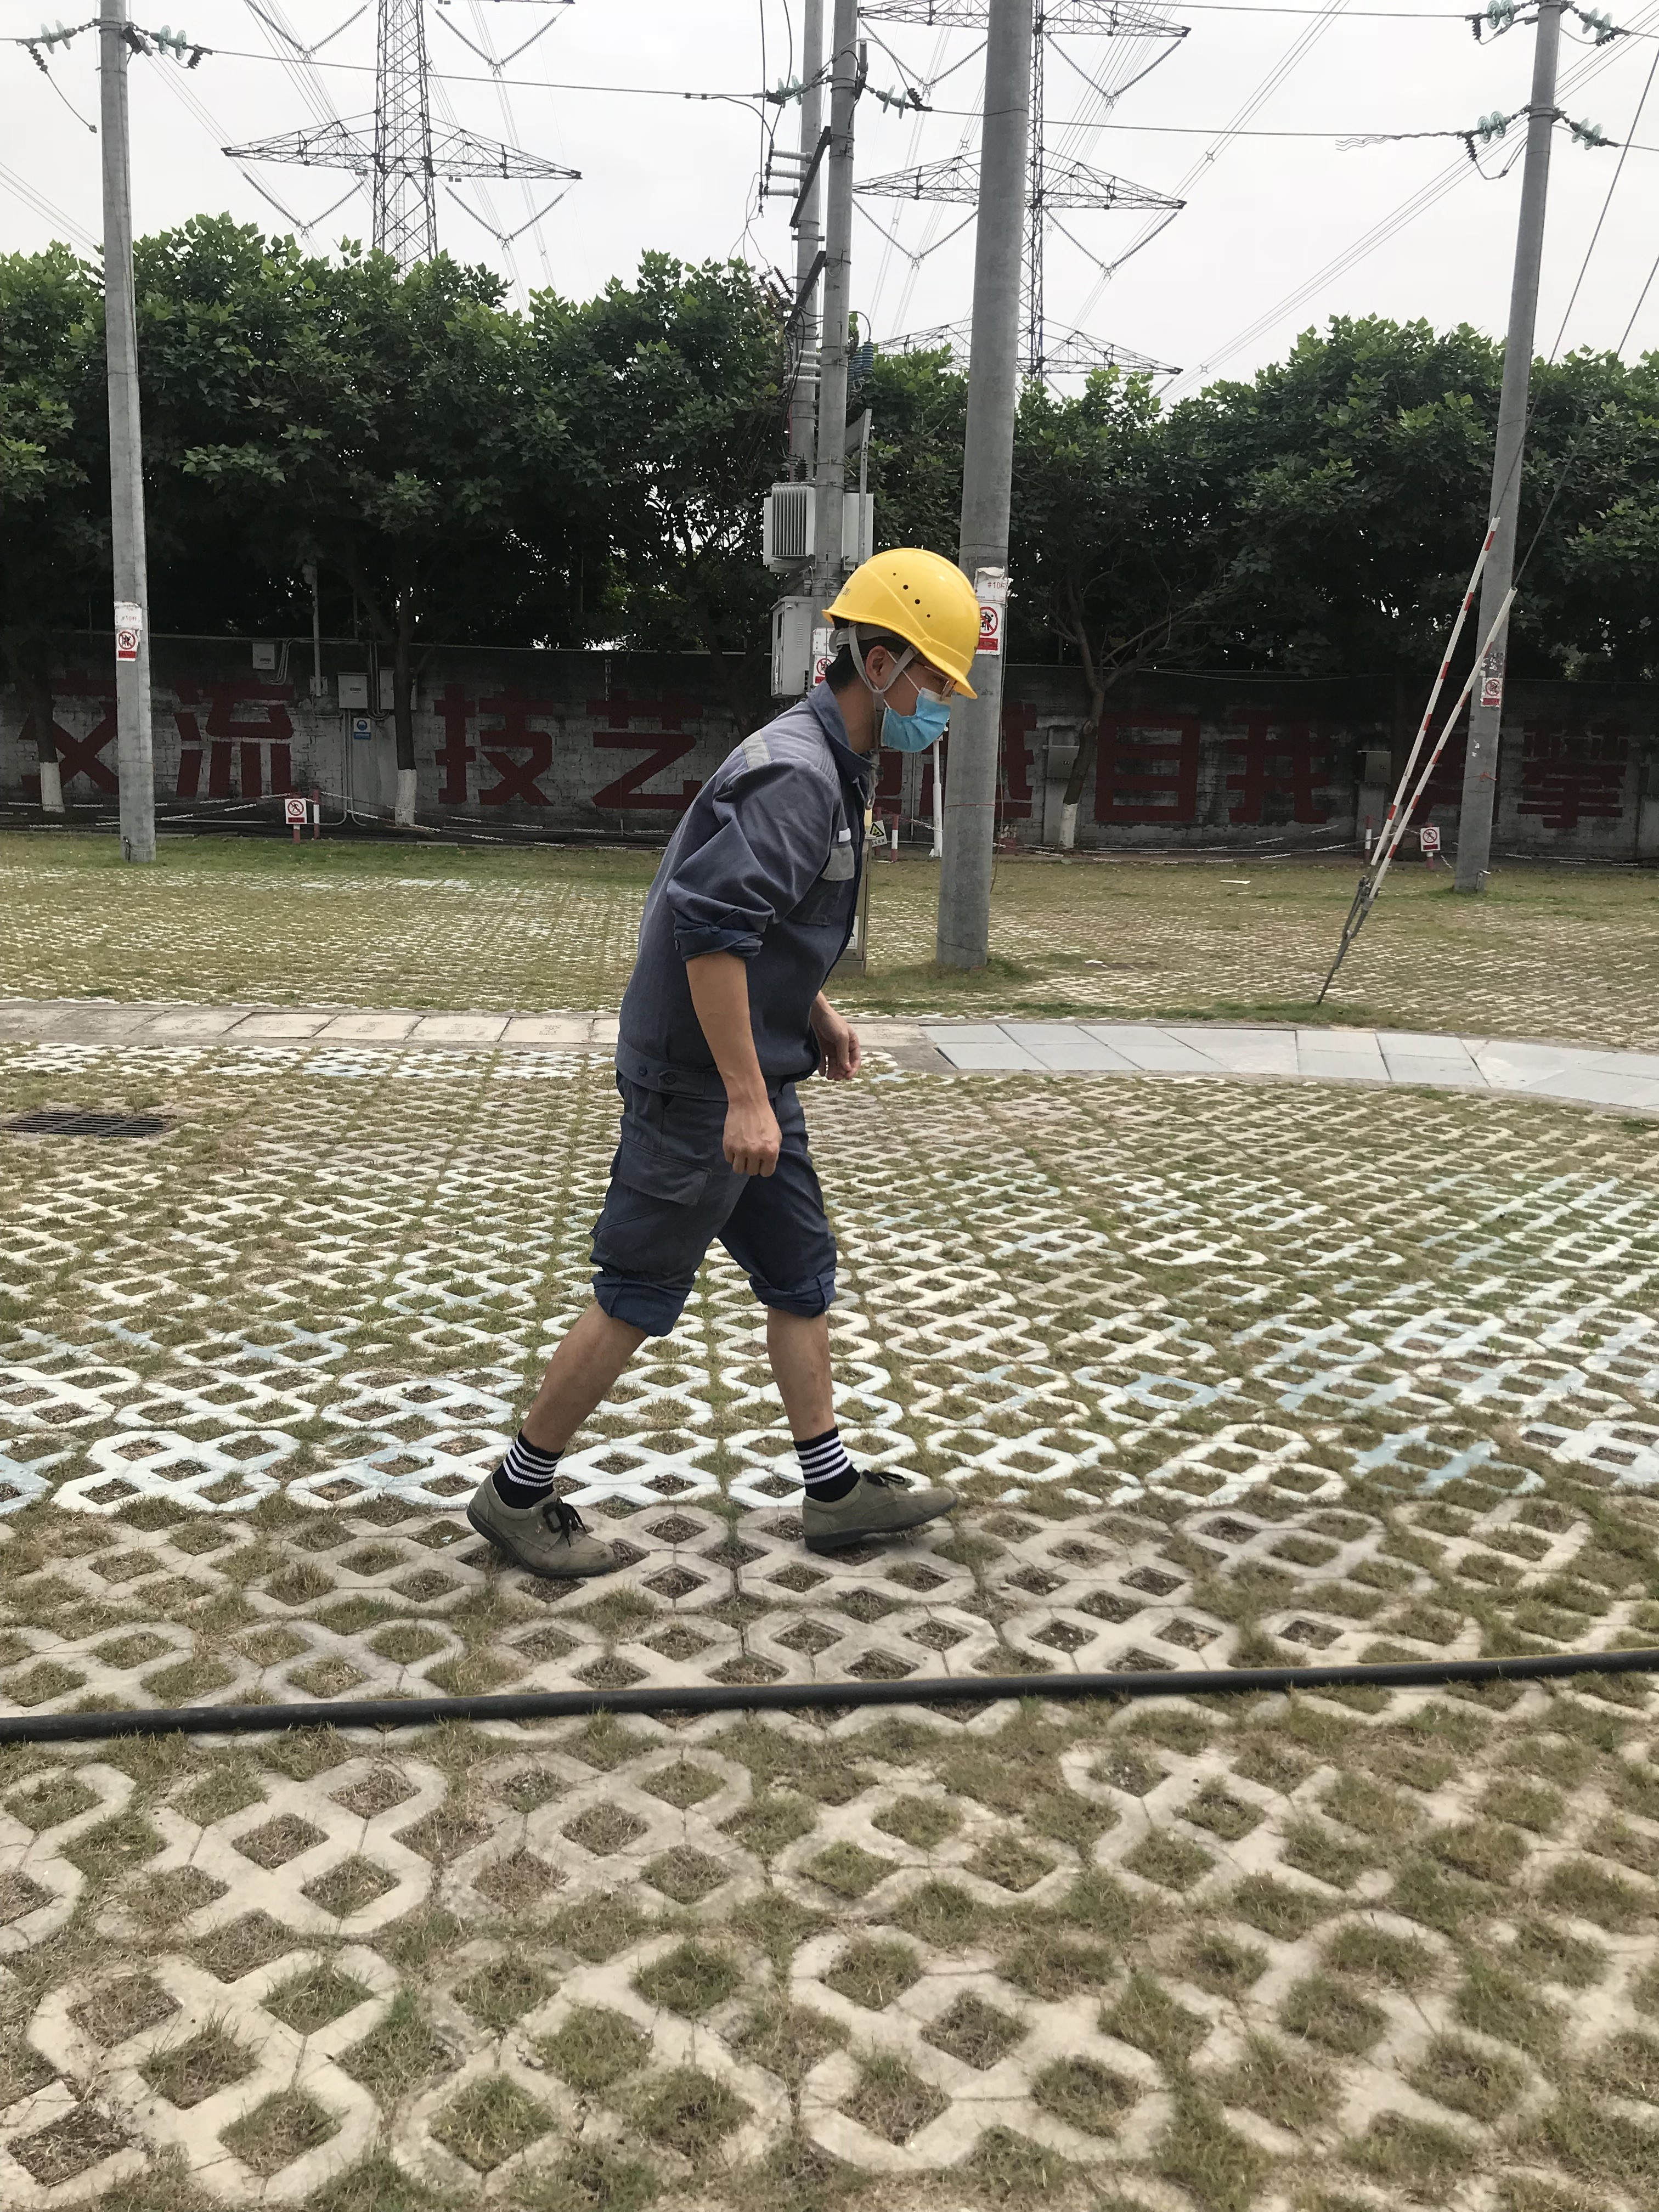downsuit: (587, 1130, 842, 1339)
upsuit: (613, 678, 875, 1099)
wrongbottom: (519, 1247, 845, 1467)
wrongtop: (671, 925, 793, 1176)
